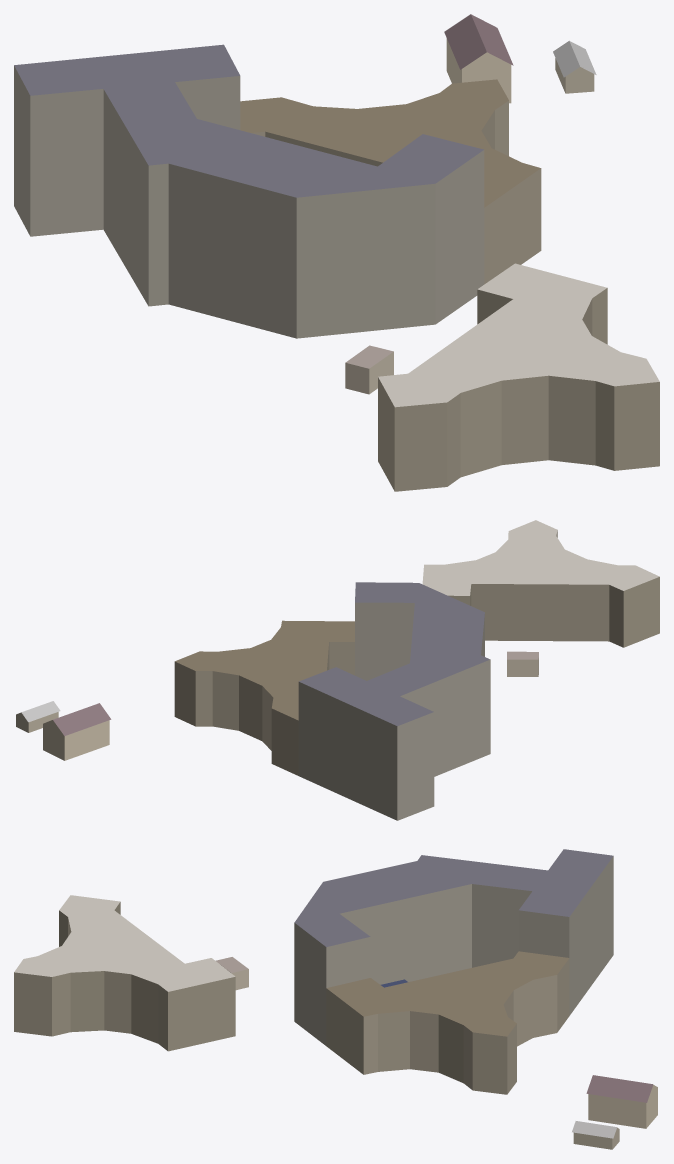
The picture shows the model from 3 angles, top to bottom: view 1: azimuth 30°, elevation 25°; view 2: azimuth 150°, elevation 25°; view 3: azimuth 270°, elevation 25°; orthographic projection. The views are drawn at different scales.
Parts seen in each view (by area): view 1: tuile; view 2: tuile; view 3: tuile.
Boxes of the visible parts, x1,y1,x2,y2 form: tuile: (14,14,659,491); tuile: (16,520,659,820); tuile: (14,849,657,1149).
Bounding box in the file's own units: 117 × 27.08 × 158.
